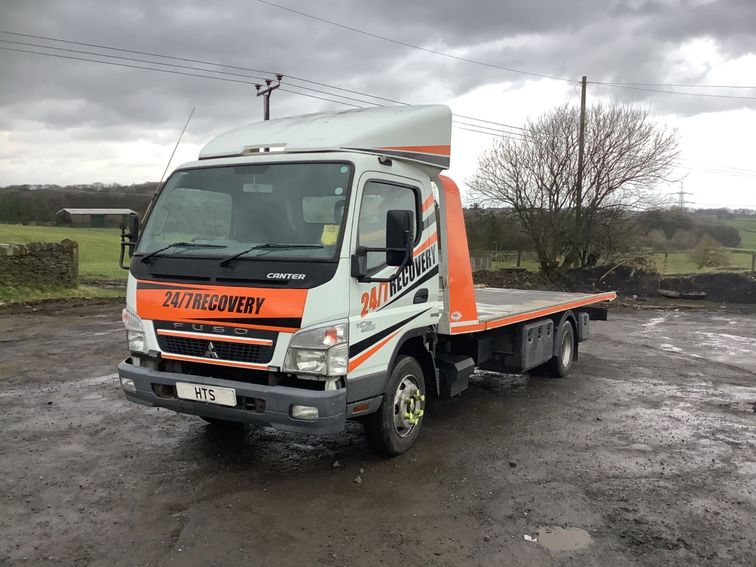Semi: (117, 105, 615, 455)
